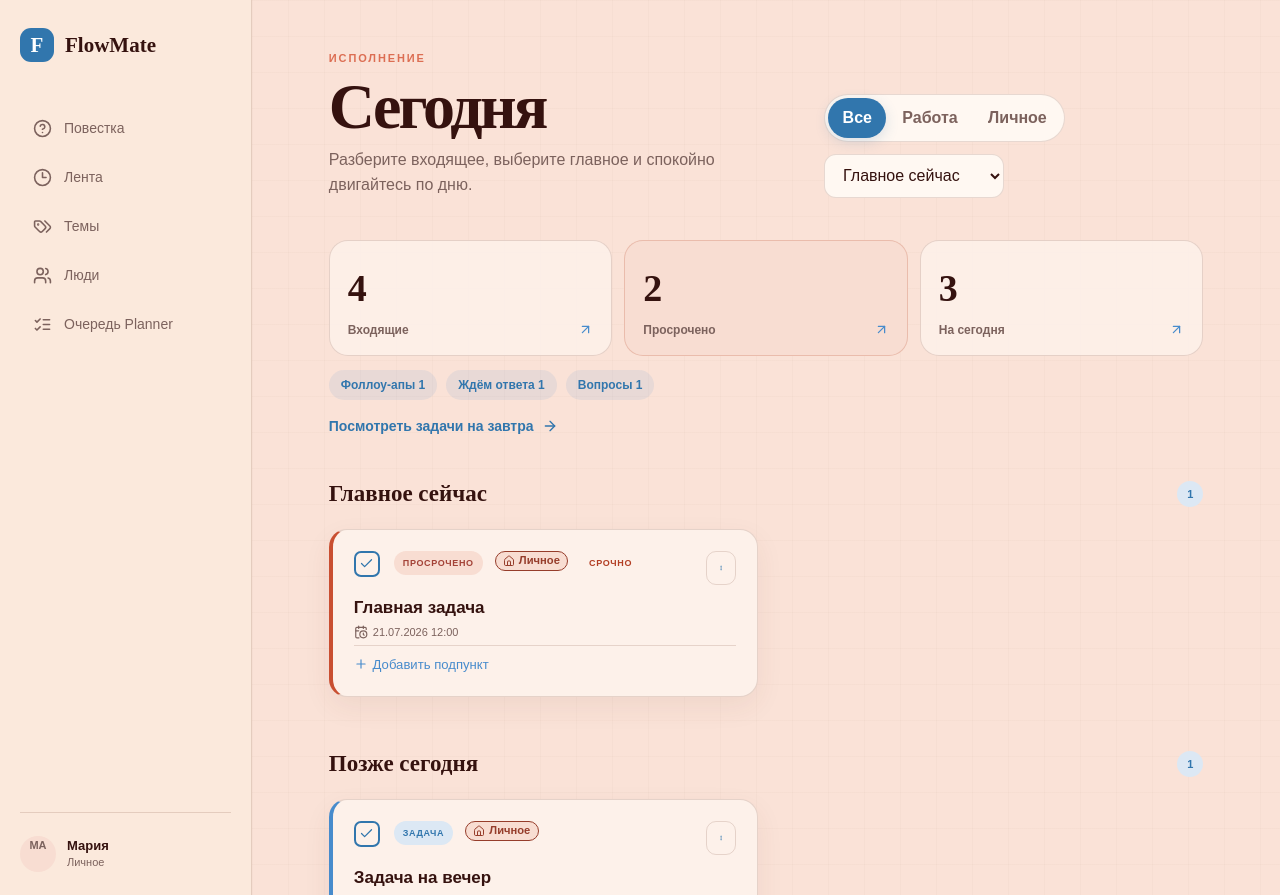
Scenario: Today home › renders summary, focus, and later without loading paginated sections
Expected: the heading "Главное сейчас" is shown, [329,481,487,507]
Expected: the heading "Позже сегодня" is shown, [329,751,478,777]
Click the button named "Ещё действия" next to "Срочно" at (721,568), box [706,551,736,585]
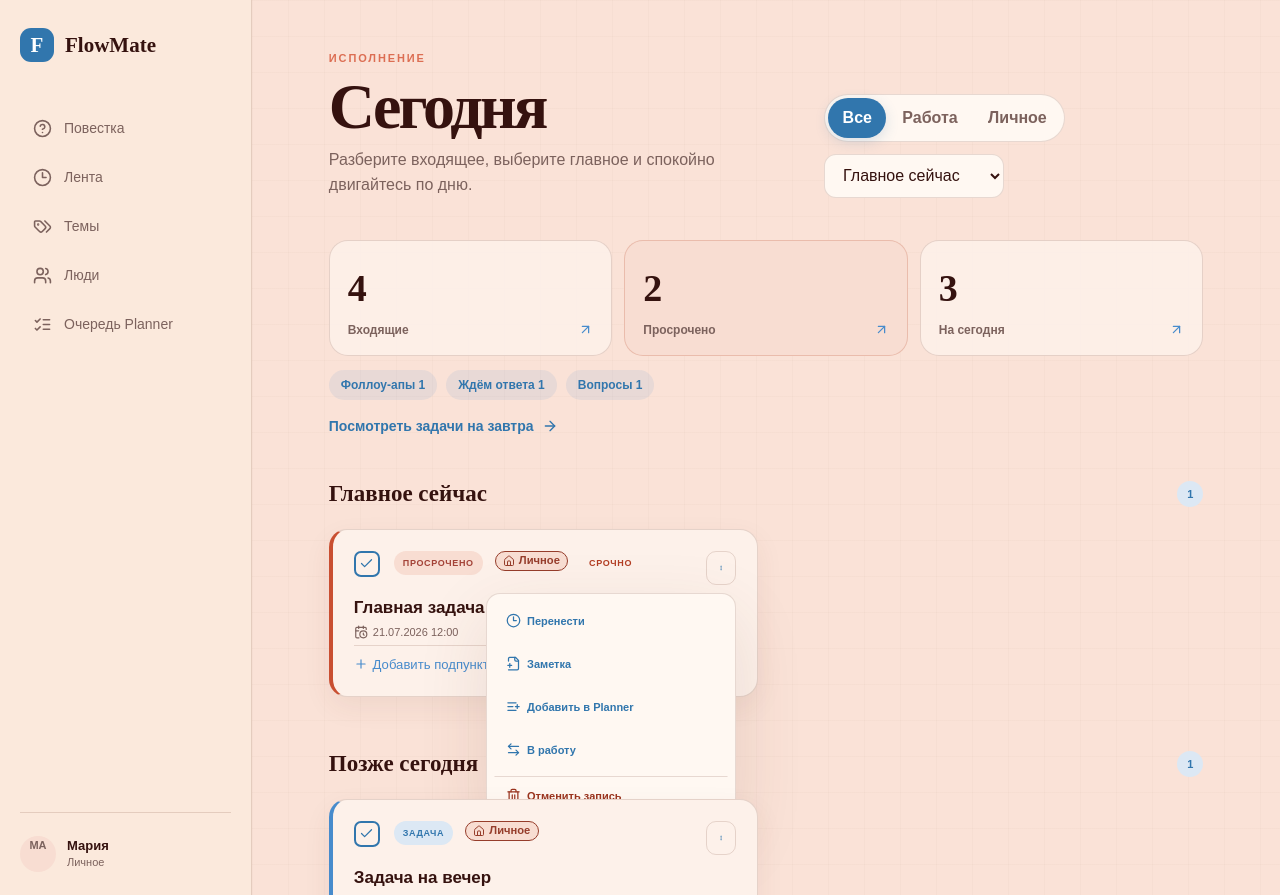
Expected: the menu item "Перенести" is shown, [494,601,728,641]
Expected: the menu item "Заметка" is shown, [494,644,728,684]
